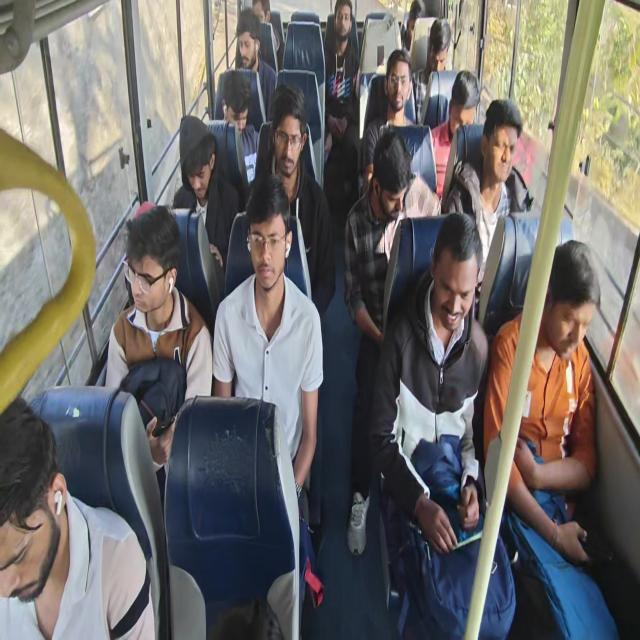person: (0, 400, 74, 620), (120, 215, 183, 319), (551, 242, 598, 372), (242, 191, 293, 294), (434, 233, 475, 343), (364, 136, 412, 228), (175, 110, 223, 196), (487, 105, 526, 181), (383, 44, 422, 116), (443, 64, 477, 142), (272, 96, 302, 180), (427, 19, 454, 81), (221, 76, 251, 130), (331, 7, 362, 48), (235, 20, 260, 70), (406, 0, 430, 50), (251, 3, 270, 29)
